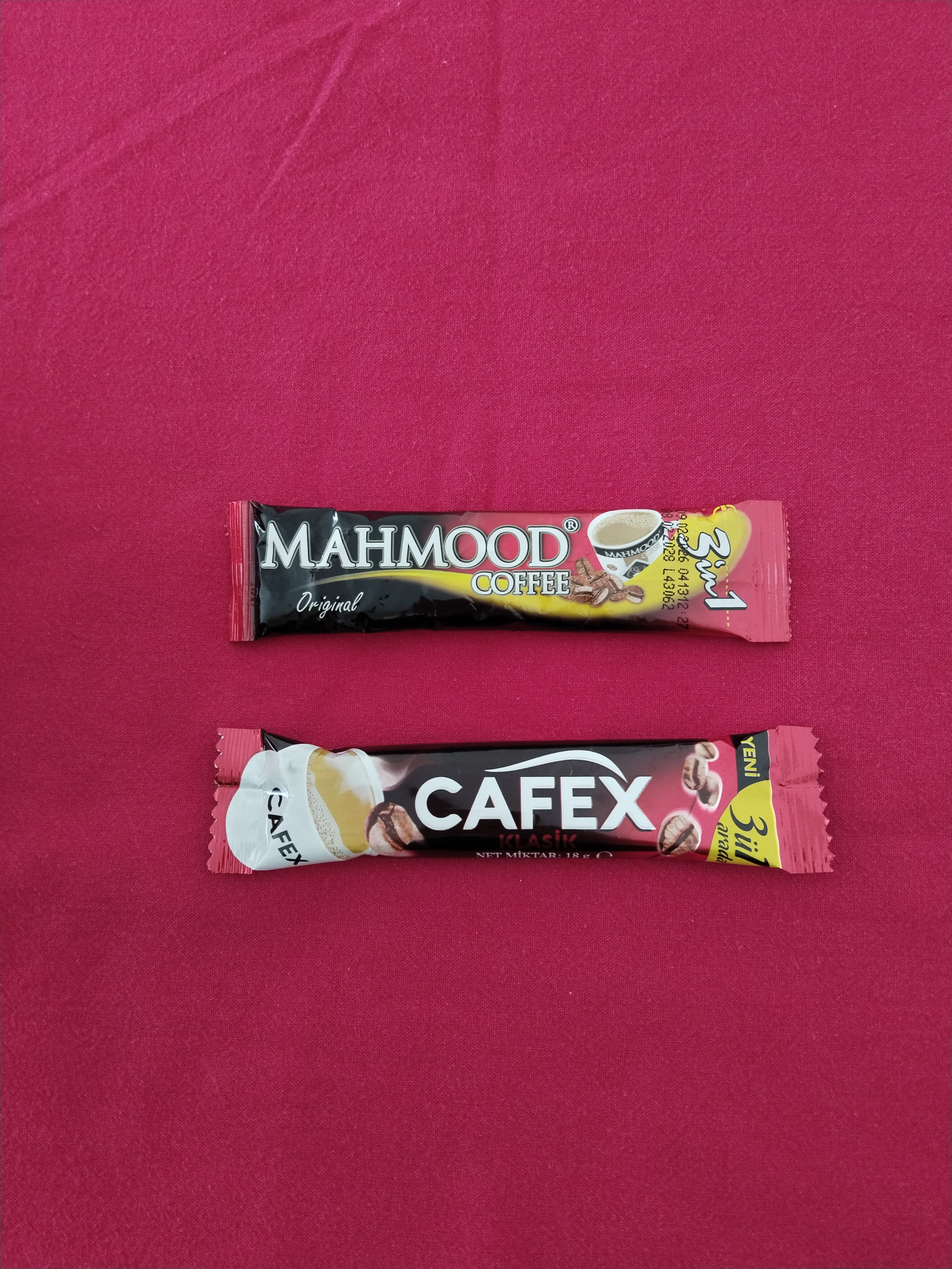cafex_kahve: (210, 721, 828, 874)
mahmood_kahve: (228, 498, 790, 642)
